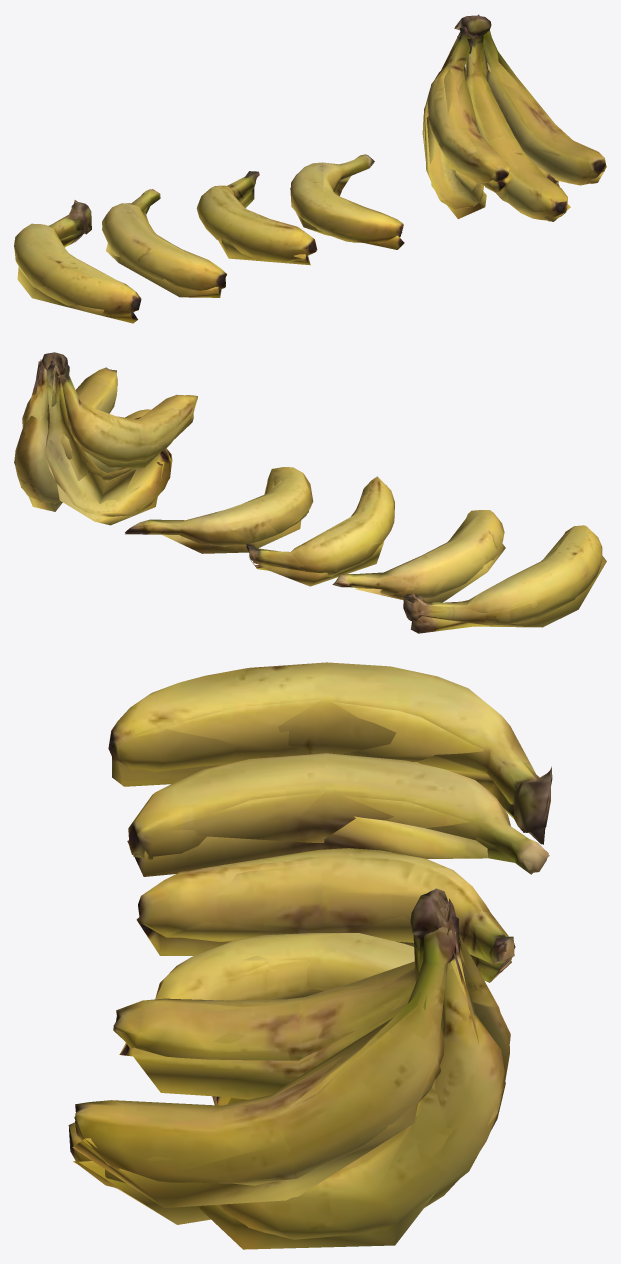
Rendered from imp-bananas.glb.
3 views of the same model, one above another, from view 1: azimuth 30°, elevation 25°; view 2: azimuth 150°, elevation 25°; view 3: azimuth 270°, elevation 25° (orthographic). The views are drawn at different scales.
Visible parts, largest first — view 1: bananas_bunch (×3); view 2: bananas_bunch (×3); view 3: bananas_bunch (×3).
Boxes of the visible parts, x1=… form: bananas_bunch (×3): x1=14, y1=14, x2=606, y2=323; bananas_bunch (×3): x1=14, y1=352, x2=606, y2=633; bananas_bunch (×3): x1=68, y1=662, x2=552, y2=1249.
Size of the model in its own units: 0.2 by 0.0594 by 0.0806.
1 material, 1 textured.
